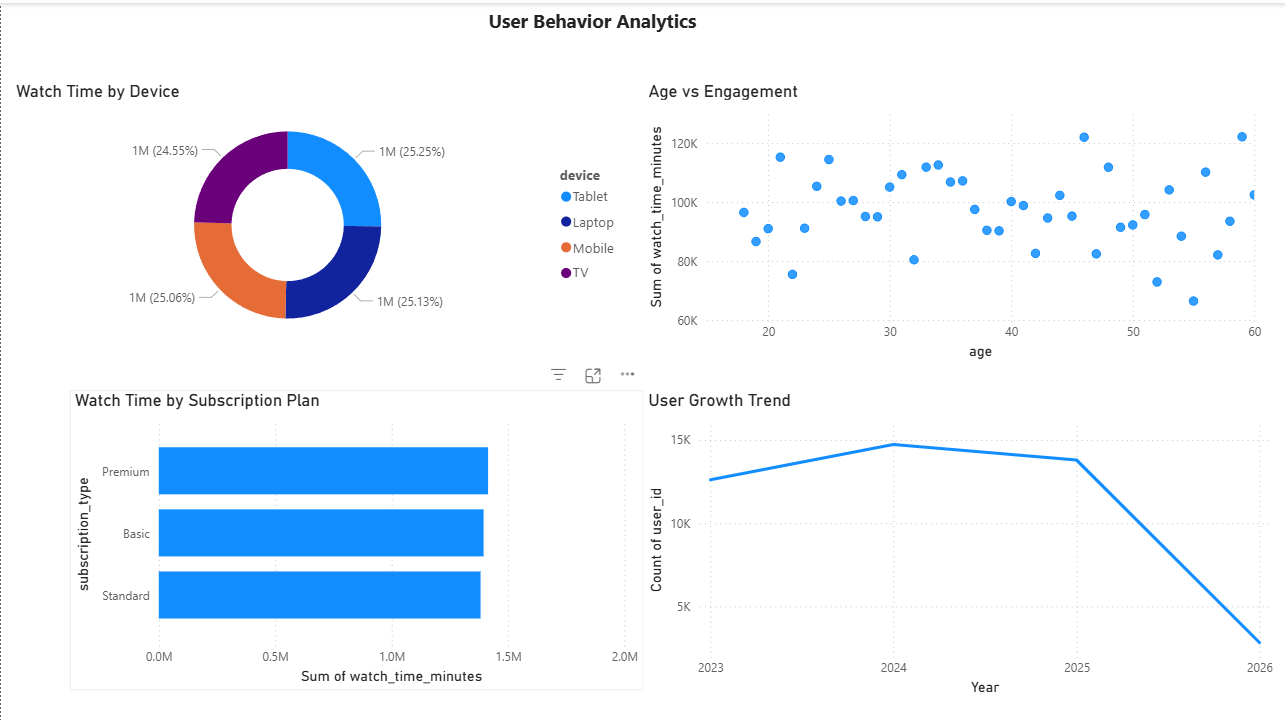

The page's visual inventory and layout, read from the dashboard file:
{"tool":"powerbi","page":{"name":"User Behavior Analytics","canvas":[1280,720],"ordinal":2},"visuals":[{"type":"donutChart","title":"Watch Time by Device","fields":{"Category":["final_streaming_dataset.device"],"Y":["Sum(final_streaming_dataset.watch_time_minutes)"]},"box":[10,77.5,615,268.8],"z":0},{"type":"scatterChart","title":"Age vs Engagement","fields":{"X":["final_streaming_dataset.age"],"Y":["Sum(final_streaming_dataset.watch_time_minutes)"]},"box":[640,77.5,620,282.5],"z":1000},{"type":"clusteredBarChart","title":"Watch Time by Subscription Plan","fields":{"Category":["final_streaming_dataset.subscription_type"],"Y":["Sum(final_streaming_dataset.watch_time_minutes)"]},"box":[68.8,385,571.2,297.5],"z":2000},{"type":"lineChart","title":"User Growth Trend","fields":{"Category":["final_streaming_dataset.signup_date.Variation.Date Hierarchy.Year"],"Y":["CountNonNull(final_streaming_dataset.user_id)"]},"box":[640,385,631.2,308.8],"z":3000},{"type":"textbox","box":[480,0,218.8,51.2],"z":4000}]}

Visuals, with their boxes in screenshot pixels (x1, y1, x2, y2), scaled from the page's 1280x720 canvas onto the 1285x727 screenshot:
"Watch Time by Device" donutChart: bbox=[10, 78, 627, 350]
"Age vs Engagement" scatterChart: bbox=[642, 78, 1265, 364]
"Watch Time by Subscription Plan" clusteredBarChart: bbox=[69, 389, 642, 689]
"User Growth Trend" lineChart: bbox=[642, 389, 1276, 701]
textbox: bbox=[482, 0, 702, 52]
